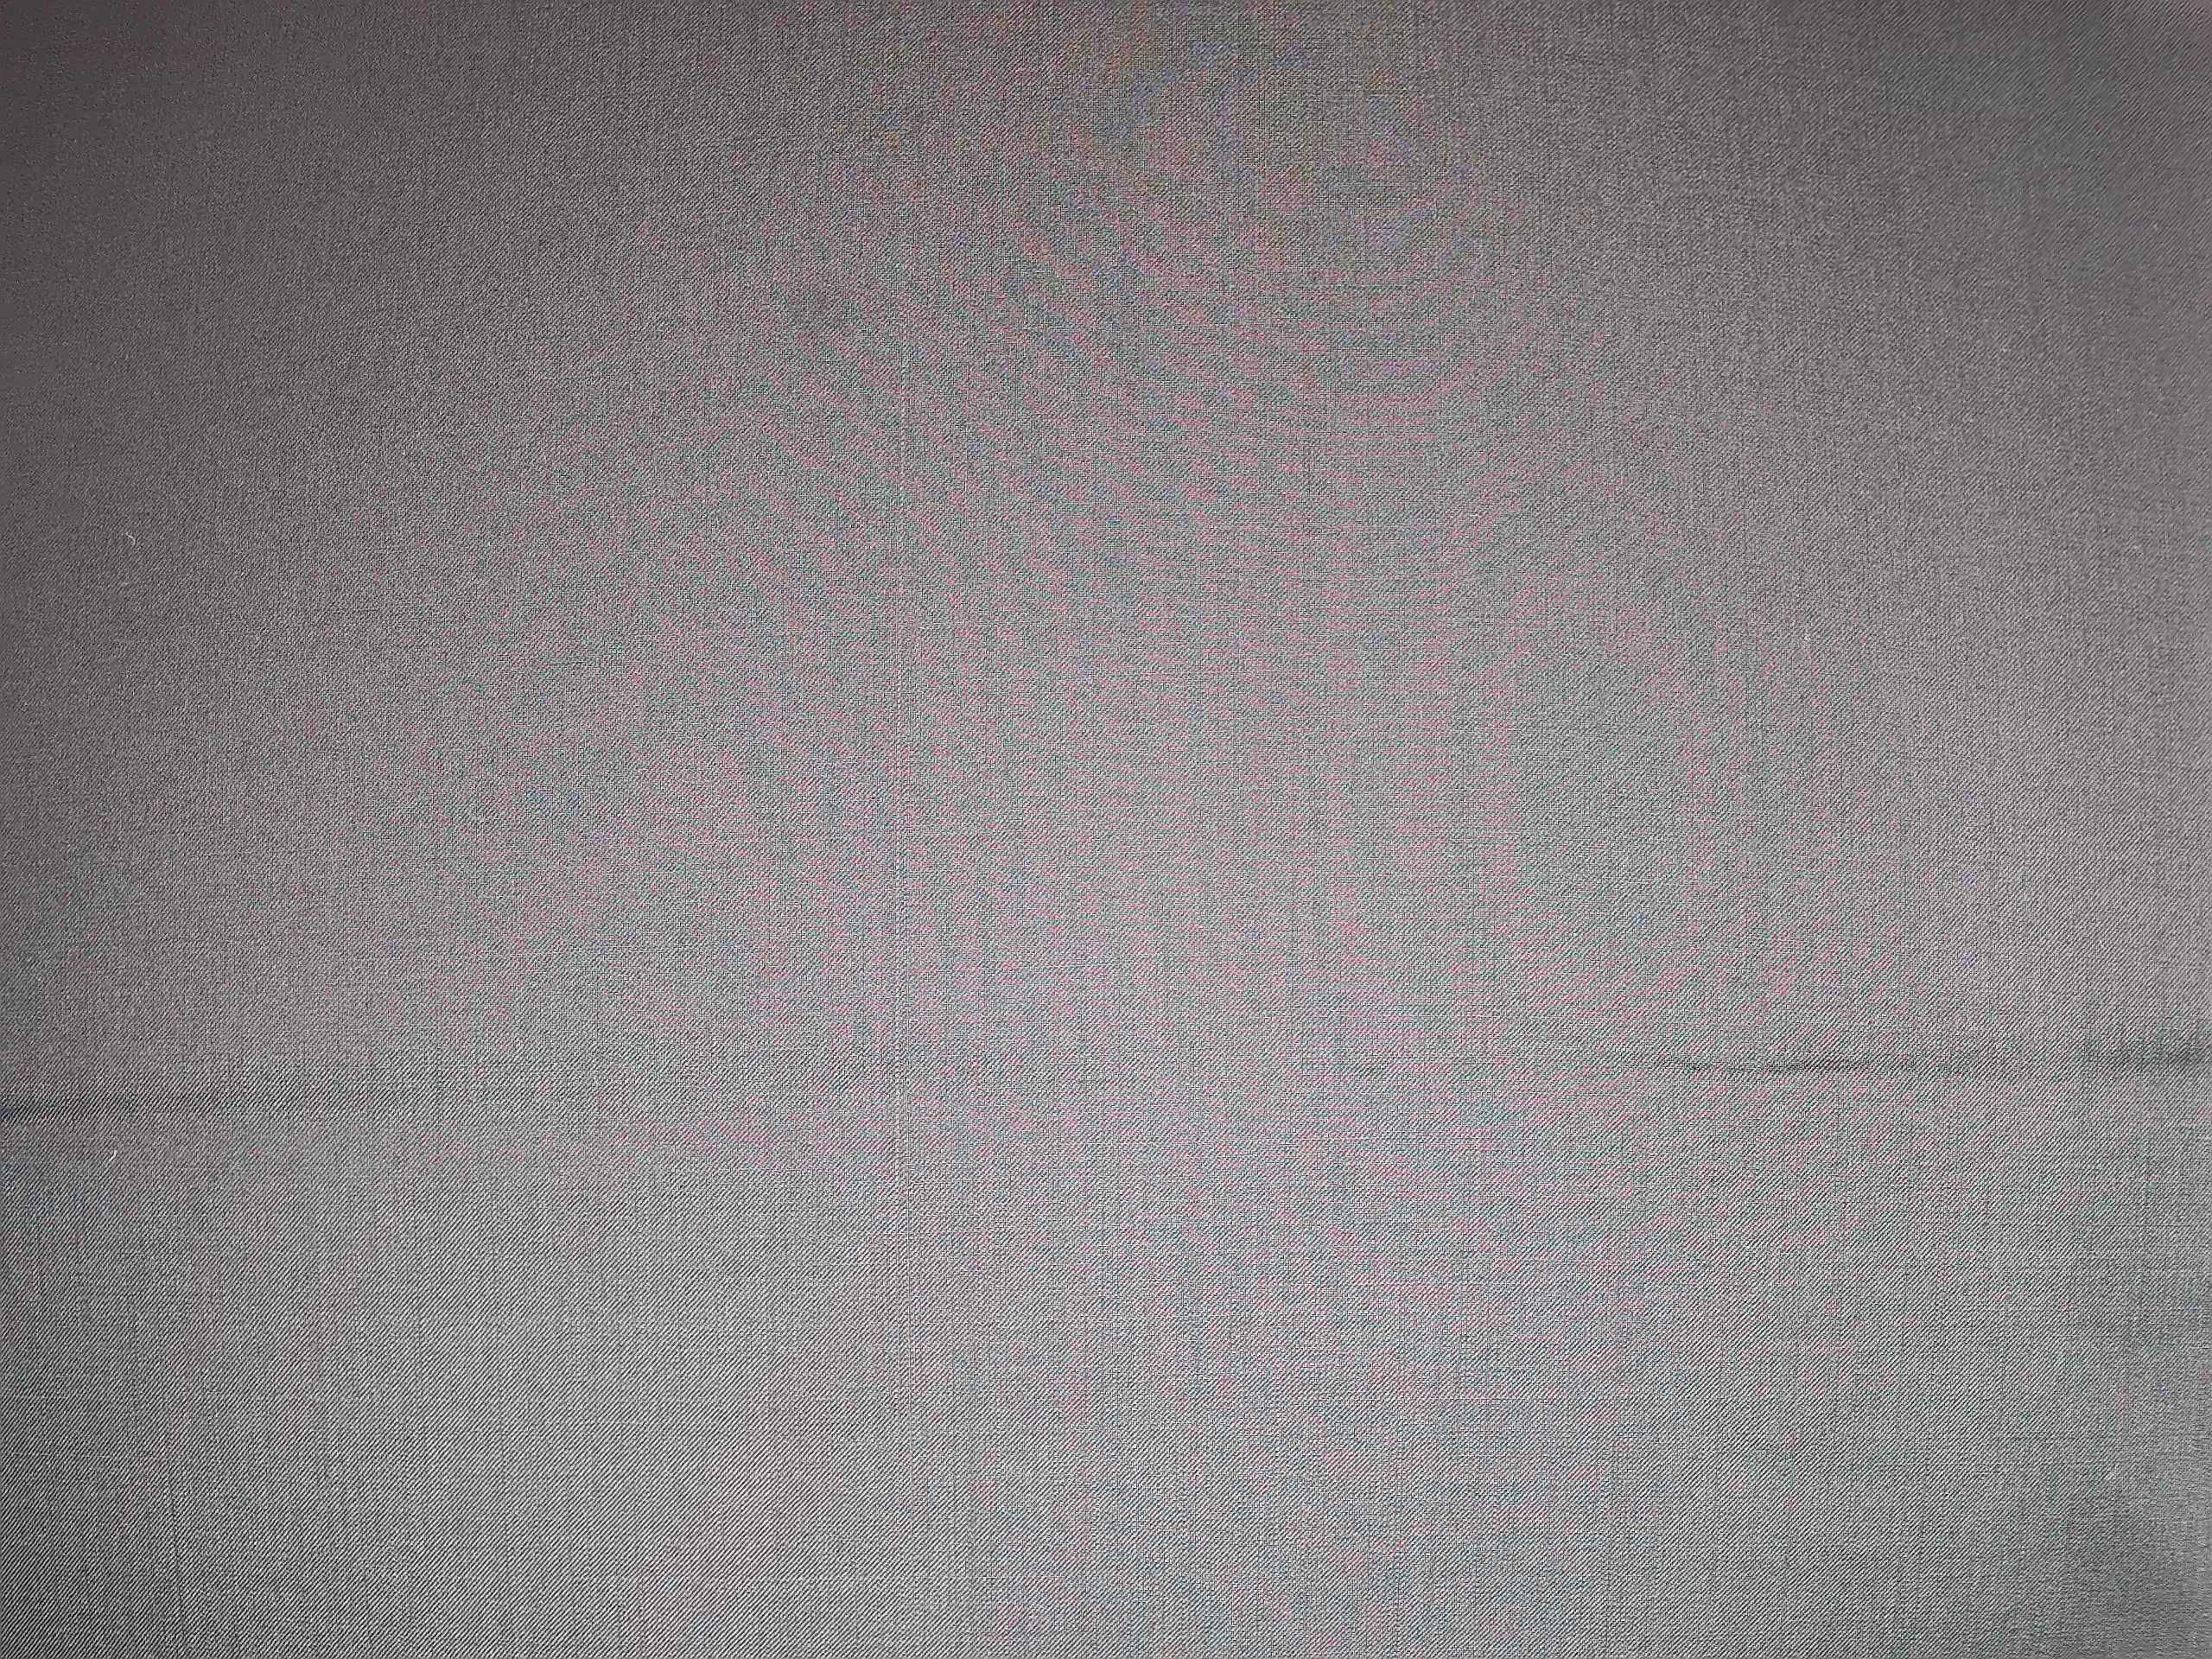others: (881, 303, 925, 1243)
